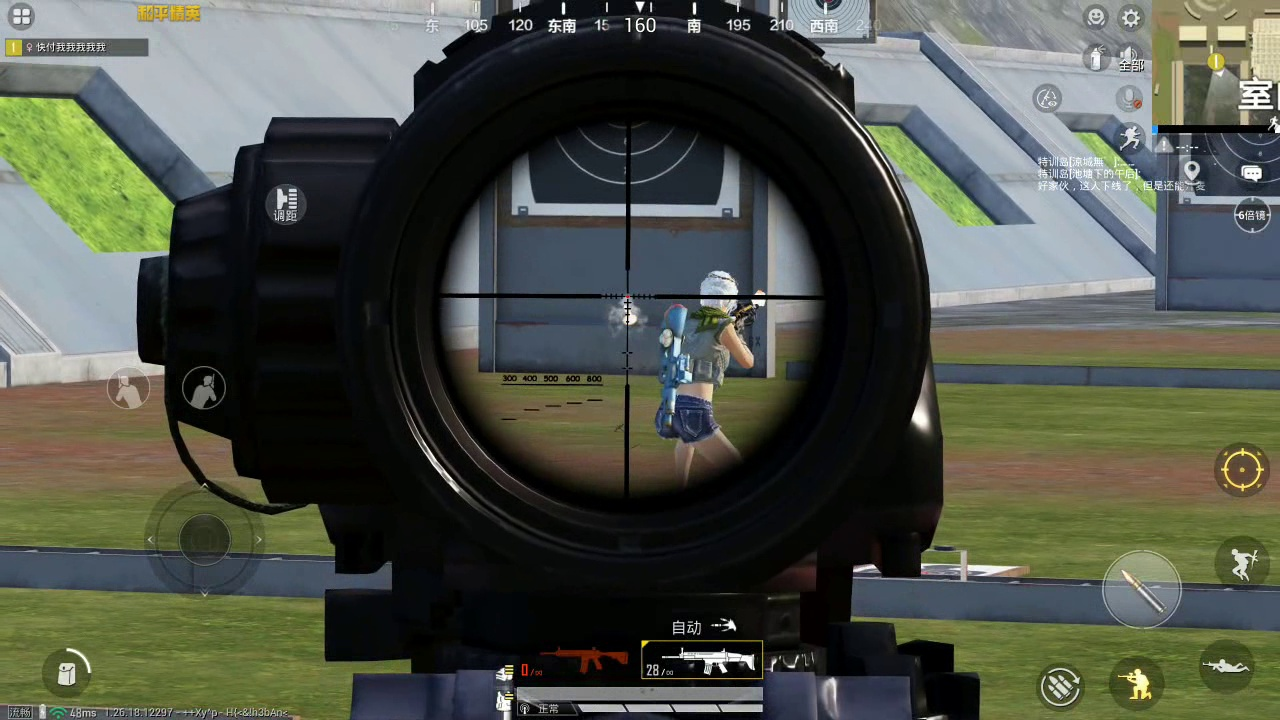enemy: (656, 269, 738, 471)
